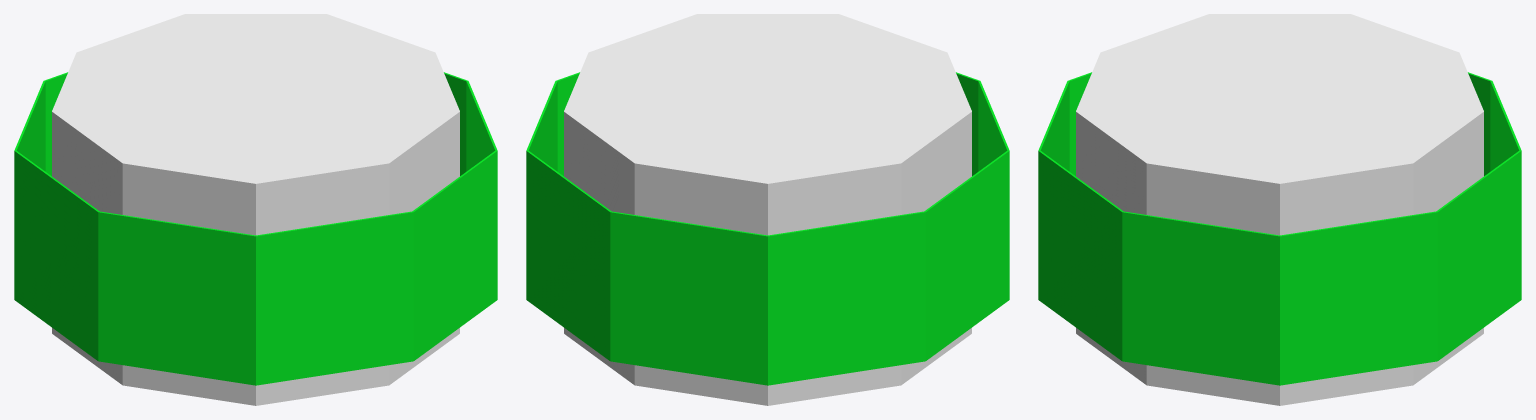
File: BouncerGreen.obj
3 renders of one model, left to right at view 1: azimuth 30°, elevation 25°; view 2: azimuth 150°, elevation 25°; view 3: azimuth 270°, elevation 25°, orthographic.
Parts seen in each view (by area): view 1: Level_Models:pCylinder31; view 2: Level_Models:pCylinder31; view 3: Level_Models:pCylinder31.
Part boxes in pixels (<box>): Level_Models:pCylinder31: <box>14,14,497,405</box>; Level_Models:pCylinder31: <box>526,14,1009,405</box>; Level_Models:pCylinder31: <box>1038,14,1521,405</box>.
Bounding box in the file's own units: 0.6435 × 0.3312 × 0.6534.
Materials: 2 (2 with a texture image).
